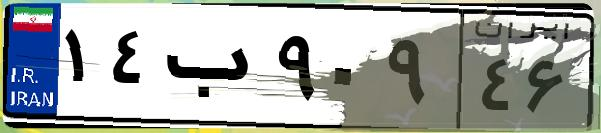0: (330, 28, 385, 110)
1: (57, 26, 110, 100)
4: (475, 38, 525, 113), (110, 28, 158, 98)
6: (525, 38, 570, 115)
9: (270, 28, 330, 110), (385, 28, 445, 110)
ب: (158, 20, 270, 120)
